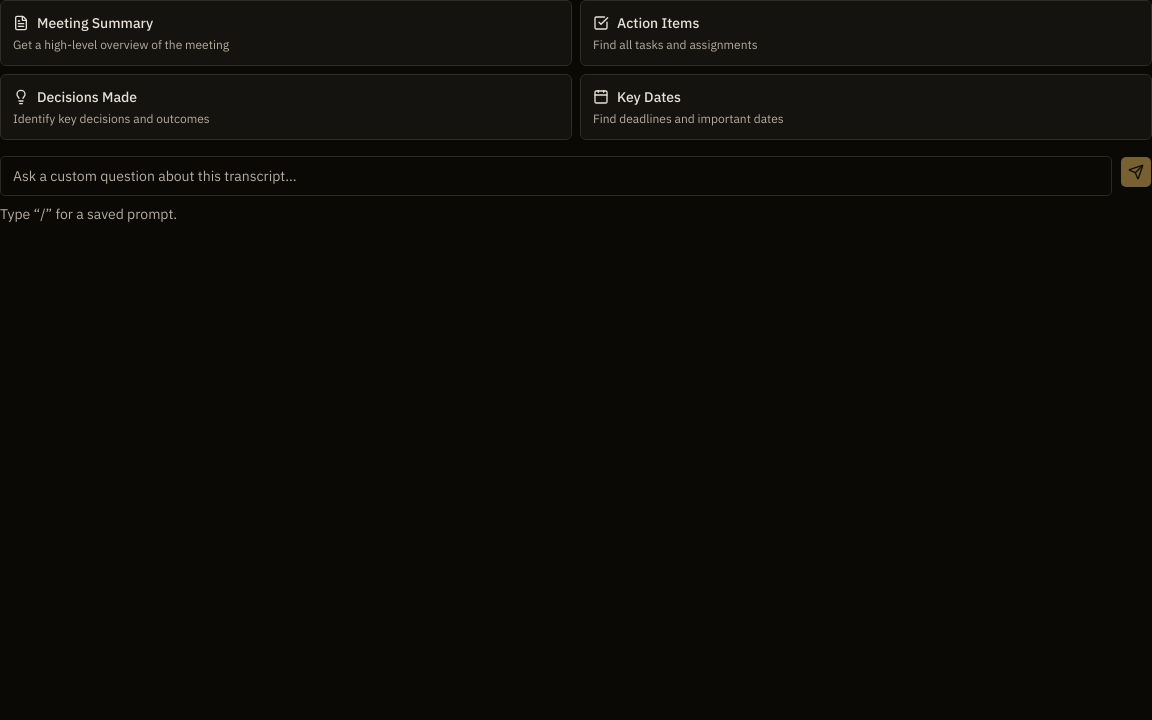
AiAnalysisPanel › warns when citations remain but the backend marks the answer ungrounded
Click the button "Meeting Summary Get a high-level overview of the meeting": (95, 23) [0, 0, 572, 66]
(page scrolled)
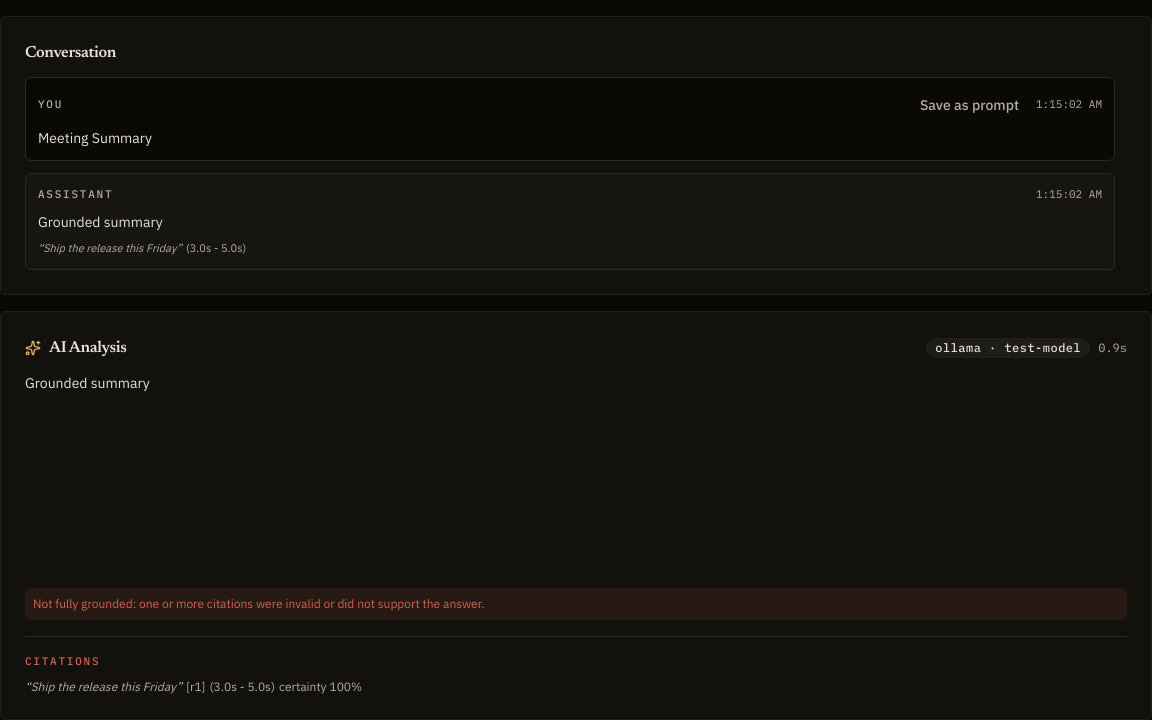
expect the text "one or more citations were invalid or did not support the answer" is shown: met, box [33, 596, 484, 611]
